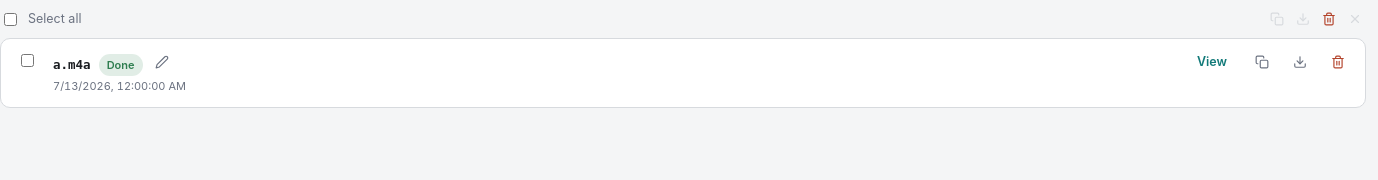
Test case: HistoryView › Trash audio (via the delete menu) asks for confirmation first, then disables itself once trashed
Click the button named "Delete" at [1338, 62], box top-left (1327, 51), bottom-right (1349, 73)
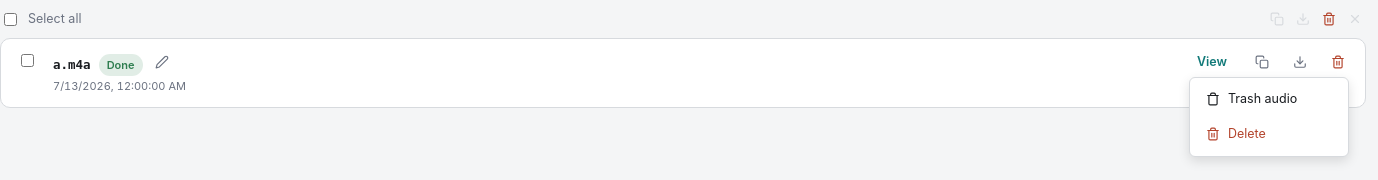
Click the menu item "Trash audio" at [1269, 99], box top-left (1194, 82), bottom-right (1344, 117)
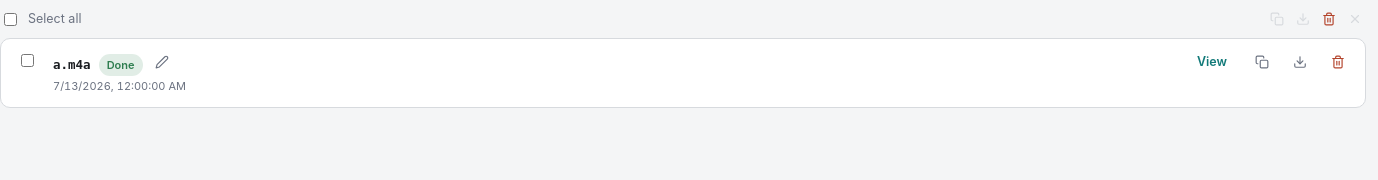
Click the button named "Delete" at [1338, 62], box top-left (1327, 51), bottom-right (1349, 73)
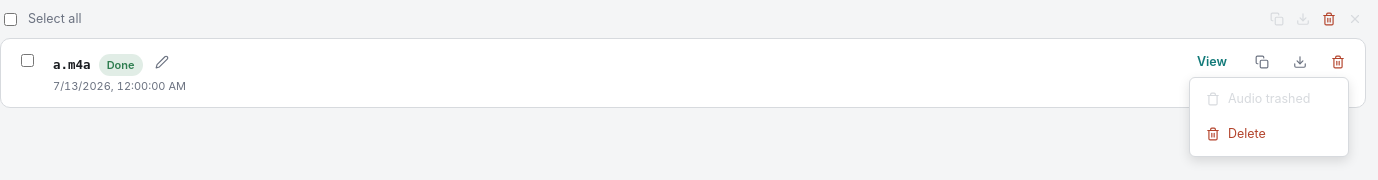
Now the menu item "Audio trashed" is disabled, box top-left (1194, 82), bottom-right (1344, 117)
